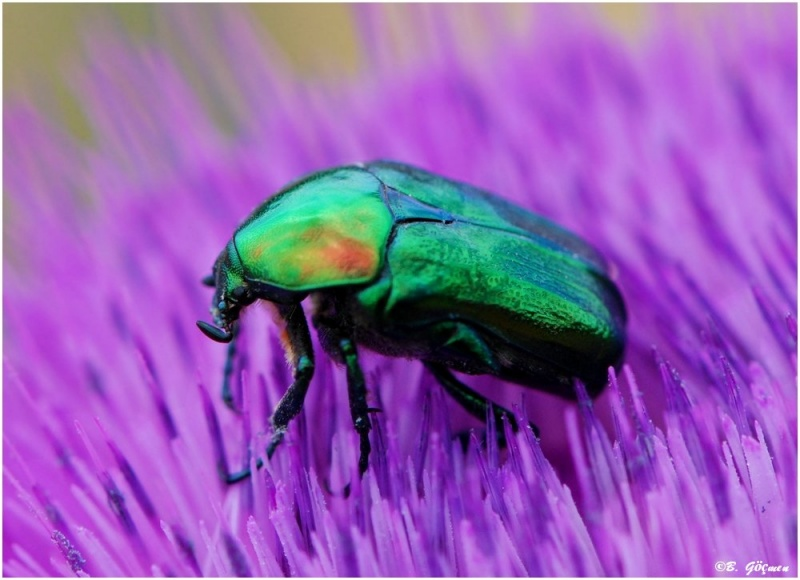Cetonia_aurata: (198, 144, 631, 500)
